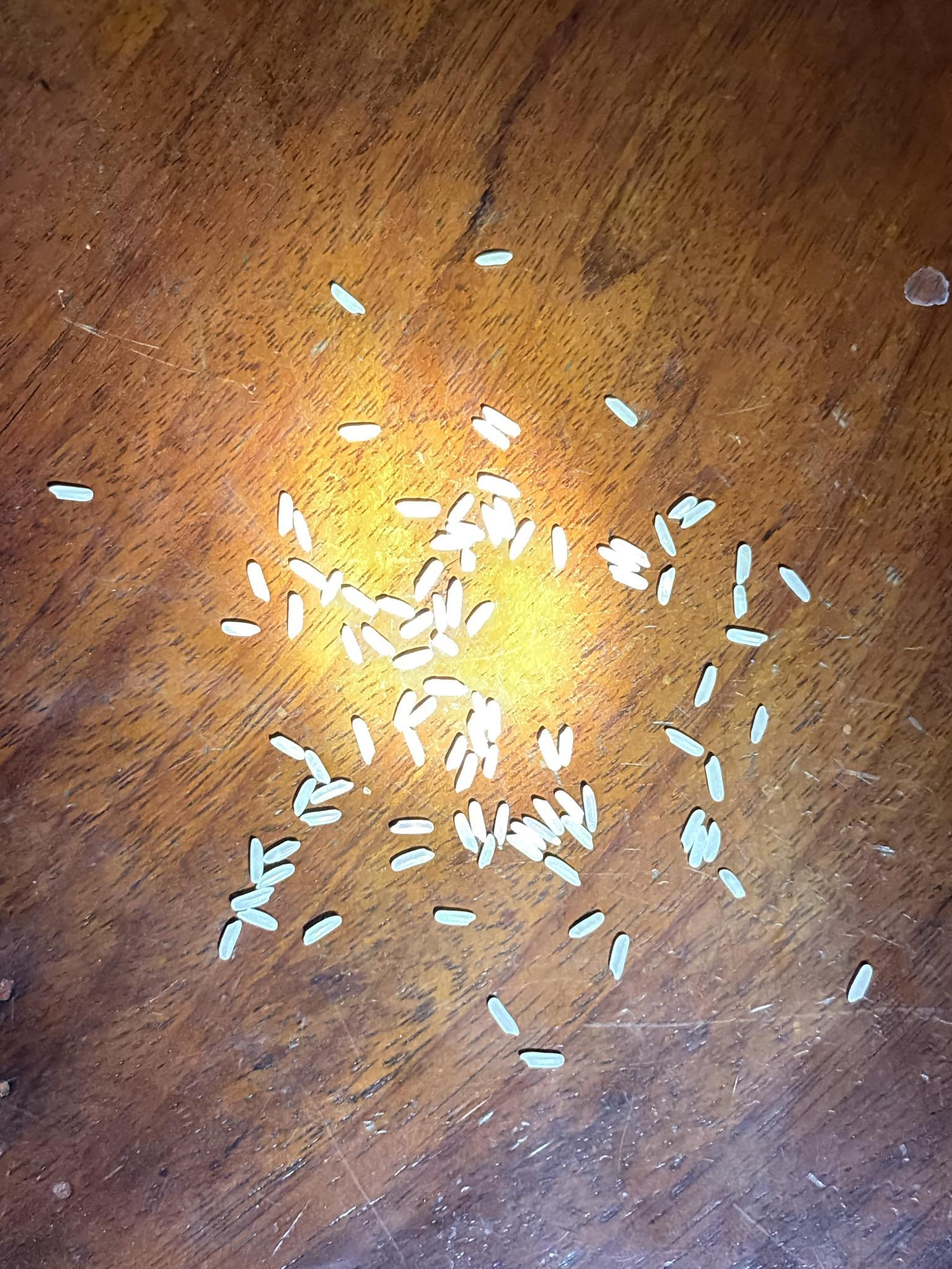Rice-th-y-nh: (611, 538, 651, 568), (483, 406, 520, 437), (415, 561, 443, 601), (534, 799, 564, 836), (289, 560, 327, 589), (474, 419, 510, 449), (352, 718, 376, 763), (666, 728, 703, 757), (489, 998, 518, 1035), (545, 857, 581, 886), (506, 834, 543, 862), (304, 916, 342, 943), (562, 816, 593, 849), (342, 586, 377, 615), (509, 521, 535, 560), (681, 810, 705, 852), (231, 887, 274, 910), (256, 864, 295, 889), (523, 817, 559, 844), (780, 568, 809, 601), (362, 626, 395, 655), (331, 285, 364, 314), (555, 791, 584, 823), (466, 603, 494, 636), (682, 501, 716, 528), (218, 921, 242, 959), (237, 908, 278, 930), (606, 397, 637, 426), (455, 814, 478, 853), (848, 965, 872, 1002), (293, 779, 317, 816), (478, 476, 520, 497), (494, 497, 515, 539), (392, 849, 434, 870), (695, 666, 717, 706), (539, 731, 561, 771), (408, 698, 438, 727), (569, 913, 605, 937), (456, 753, 478, 792), (305, 751, 331, 784), (394, 692, 416, 731), (312, 781, 351, 803), (688, 826, 708, 868), (248, 563, 270, 601), (609, 567, 647, 589), (263, 841, 301, 863), (610, 935, 629, 979), (401, 613, 434, 638), (468, 716, 488, 757), (655, 517, 676, 556), (446, 580, 463, 627), (395, 649, 433, 670), (493, 803, 512, 845), (706, 757, 724, 801), (271, 737, 305, 760), (448, 494, 474, 524), (342, 626, 363, 663), (405, 728, 425, 766), (293, 511, 312, 551), (377, 597, 415, 617), (720, 869, 746, 898), (483, 505, 502, 544), (446, 736, 467, 771), (396, 501, 439, 518), (287, 595, 304, 638), (517, 825, 546, 850), (248, 838, 264, 883), (321, 571, 342, 605), (49, 485, 93, 501), (447, 522, 484, 541), (469, 801, 487, 840), (583, 785, 598, 831), (521, 1052, 564, 1068), (424, 680, 466, 696), (278, 493, 294, 535), (552, 526, 567, 570), (339, 425, 380, 441), (431, 534, 469, 551), (391, 819, 434, 834), (668, 496, 696, 519), (727, 630, 767, 646), (751, 706, 768, 743), (658, 568, 675, 605), (705, 823, 721, 861), (599, 547, 630, 566), (559, 727, 574, 766), (736, 545, 751, 584), (479, 835, 496, 869), (301, 811, 341, 825), (435, 911, 475, 925), (433, 634, 459, 655), (475, 252, 513, 266), (484, 744, 499, 779), (433, 595, 447, 631), (488, 701, 501, 739), (222, 623, 259, 636), (733, 586, 747, 618), (461, 550, 476, 572), (472, 692, 486, 713)
